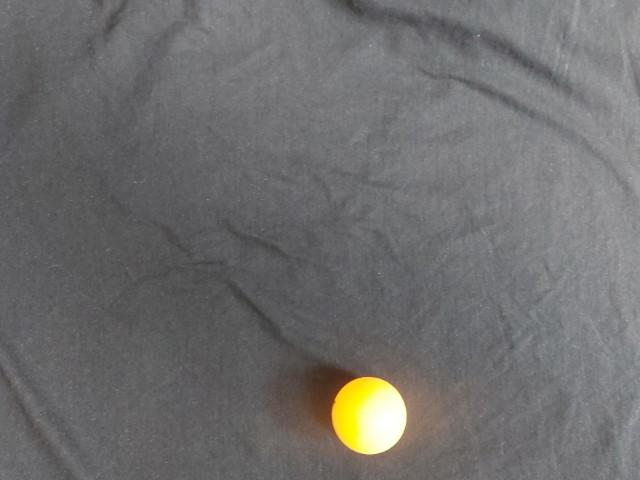oball: (225, 23, 313, 108)
